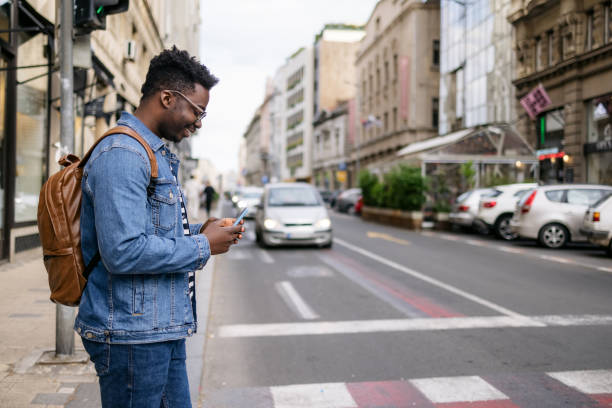otomobil: (248, 162, 344, 248), (513, 183, 605, 252), (445, 174, 536, 233)
yaya: (16, 43, 264, 407)
